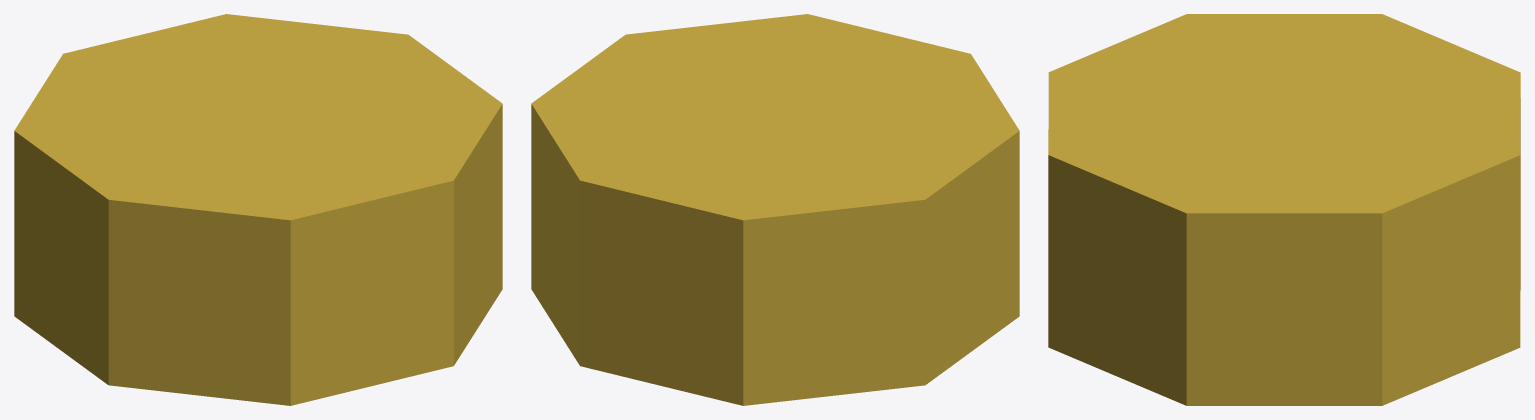
Rendered from lunar_lander_base.dae.
3 views of the same model, side by side, from view 1: azimuth 30°, elevation 25°; view 2: azimuth 150°, elevation 25°; view 3: azimuth 270°, elevation 25° (orthographic). The views are drawn at different scales.
Visible parts, largest first — view 1: pCylinder1; view 2: pCylinder1; view 3: pCylinder1.
Boxes of the visible parts, bbox=[...] form: pCylinder1: bbox=[14, 14, 502, 405]; pCylinder1: bbox=[531, 14, 1019, 405]; pCylinder1: bbox=[1048, 14, 1520, 405].
Bounding box in the file's own units: 3.02 × 3.02 × 1.36.
